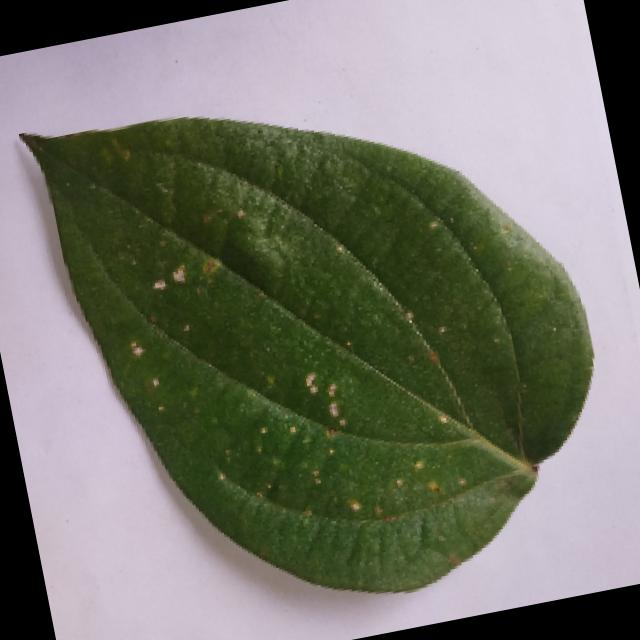pollu-disease: (1, 29, 640, 640)
